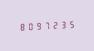eight: (17, 21, 24, 32)
five: (65, 19, 72, 29)
nine: (33, 20, 40, 31)
seven: (41, 20, 48, 30)
three: (57, 19, 64, 30)
two: (49, 19, 56, 30)
zero: (25, 21, 32, 31)
